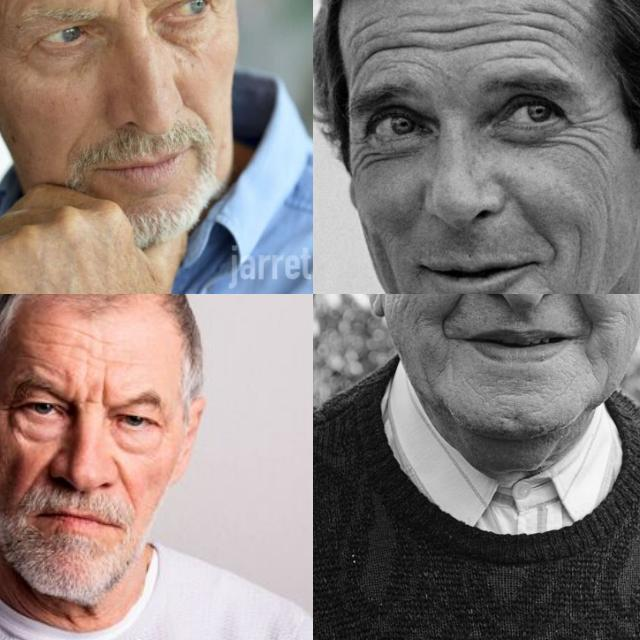crows_feet: (568, 118, 604, 150), (348, 138, 374, 168), (9, 41, 33, 70), (0, 395, 20, 424)
forehead: (520, 2, 556, 44), (356, 41, 408, 69), (426, 14, 474, 42), (452, 34, 512, 54), (494, 48, 538, 68), (346, 13, 376, 42), (484, 2, 526, 22), (42, 318, 74, 332), (78, 327, 102, 345)
frown_line: (94, 376, 108, 410), (116, 0, 136, 7)
gummy_smile: (443, 294, 480, 326), (185, 96, 208, 130), (559, 294, 594, 316), (24, 458, 48, 487), (60, 138, 86, 160), (113, 462, 131, 492)
masseter: (568, 225, 588, 268)
